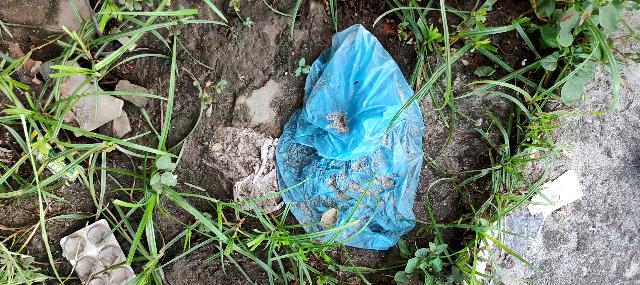polythene: (256, 11, 444, 253)
